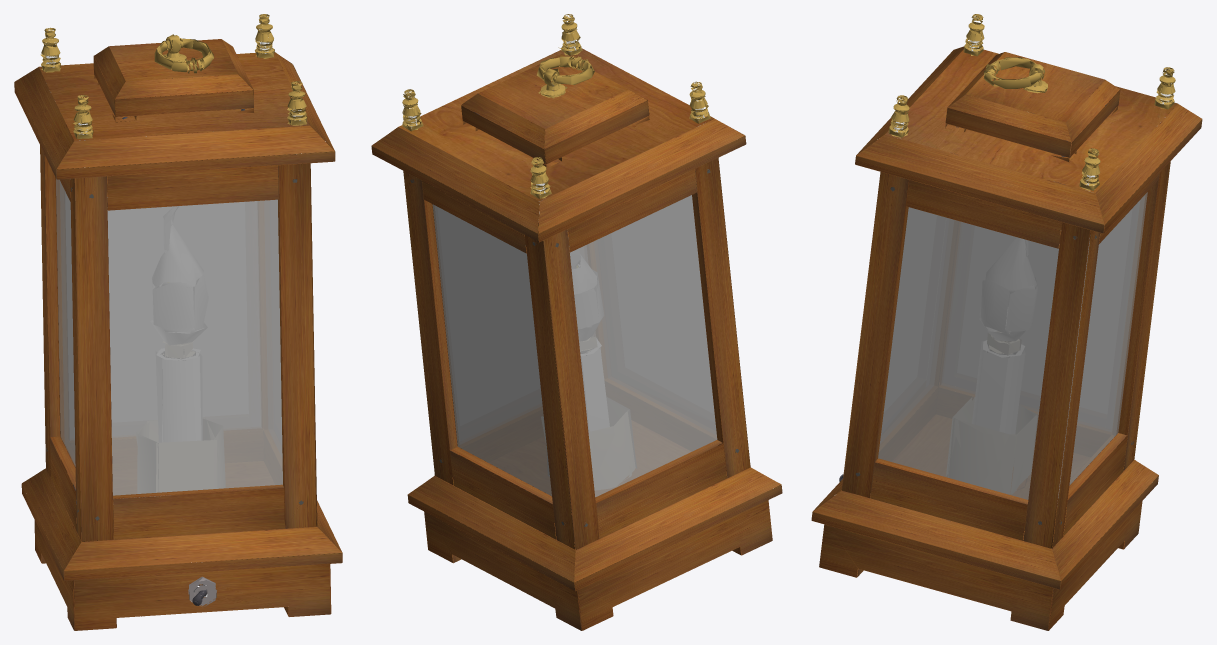
The model's file is church-lanterns.glb.
3 renders of one model, left to right at view 1: azimuth 30°, elevation 25°; view 2: azimuth 150°, elevation 25°; view 3: azimuth 270°, elevation 25°, orthographic. The views are drawn at different scales.
Visible parts, largest first — view 1: church-lanterns; view 2: church-lanterns; view 3: church-lanterns.
Part boxes in pixels (x1,y1,x2,y2): church-lanterns: (14, 14, 342, 630); church-lanterns: (371, 14, 782, 630); church-lanterns: (811, 14, 1202, 630).
Bounding box in the file's own units: 0.2931 × 0.45 × 0.3142.
30 materials, 1 textured.
